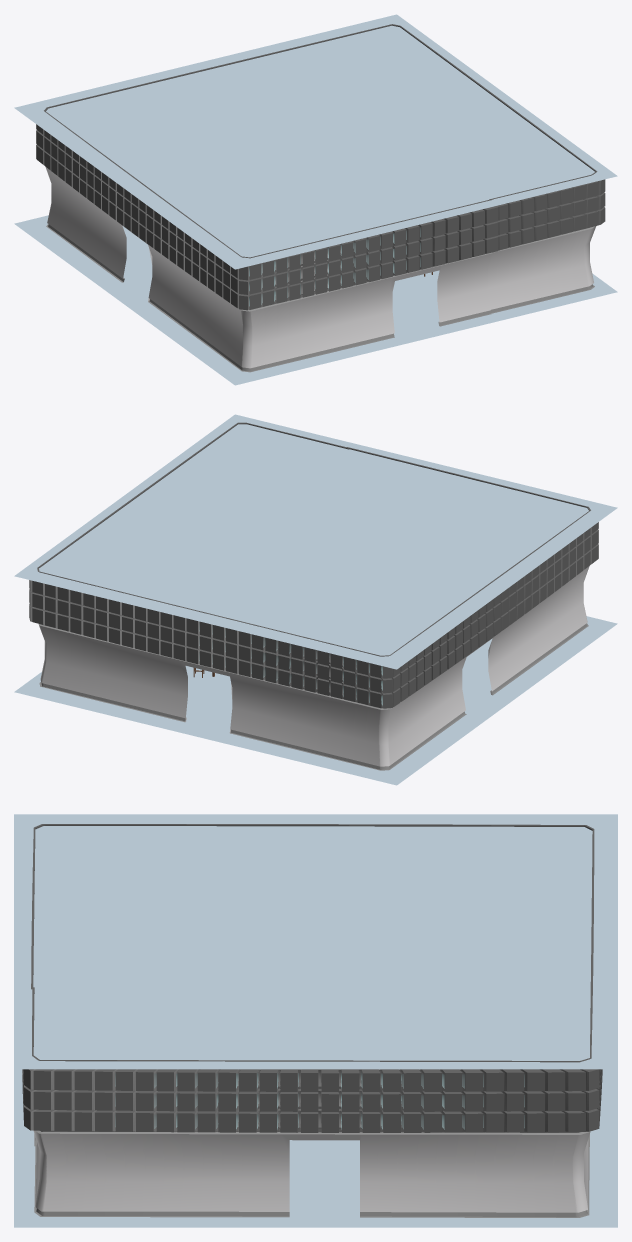
The model's file is m_SmallRoom_4_Cellblock.fbx.
3 renders of one model, top to bottom at view 1: azimuth 30°, elevation 25°; view 2: azimuth 150°, elevation 25°; view 3: azimuth 270°, elevation 25°, orthographic. The views are drawn at different scales.
Visible parts, largest first — view 1: m_room; view 2: m_room; view 3: m_room.
Part boxes in pixels (box(x1,y1,x2,y2)): m_room: box(14, 14, 617, 385); m_room: box(14, 414, 617, 785); m_room: box(14, 814, 617, 1227).
Size of the model in its own units: 1515 by 442 by 1515.
